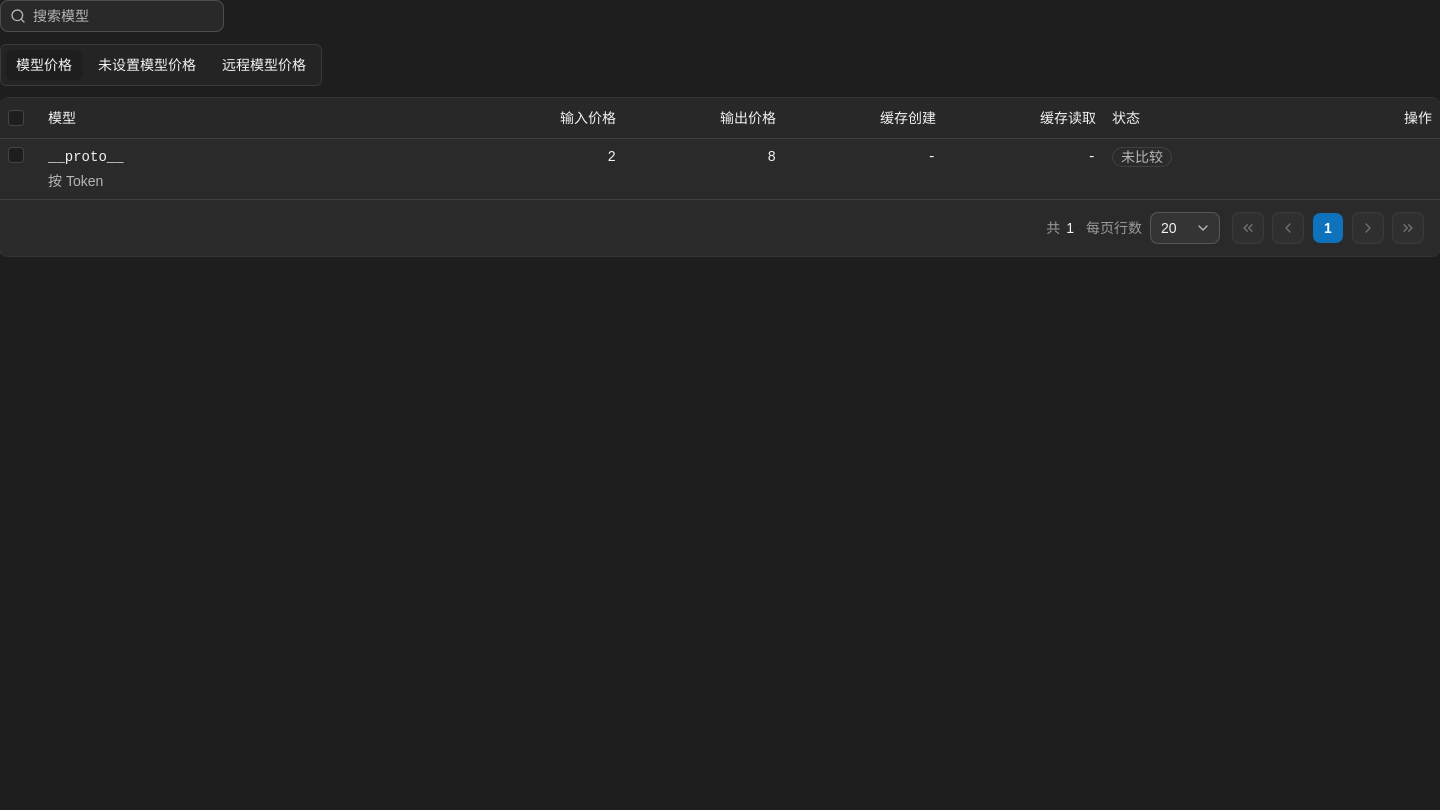
Test: 批量同步名为__proto__的模型后正常展示该模型的读回结果
Click the checkbox named "选择本页模型": (16, 118) left=8, top=110, right=24, bottom=126
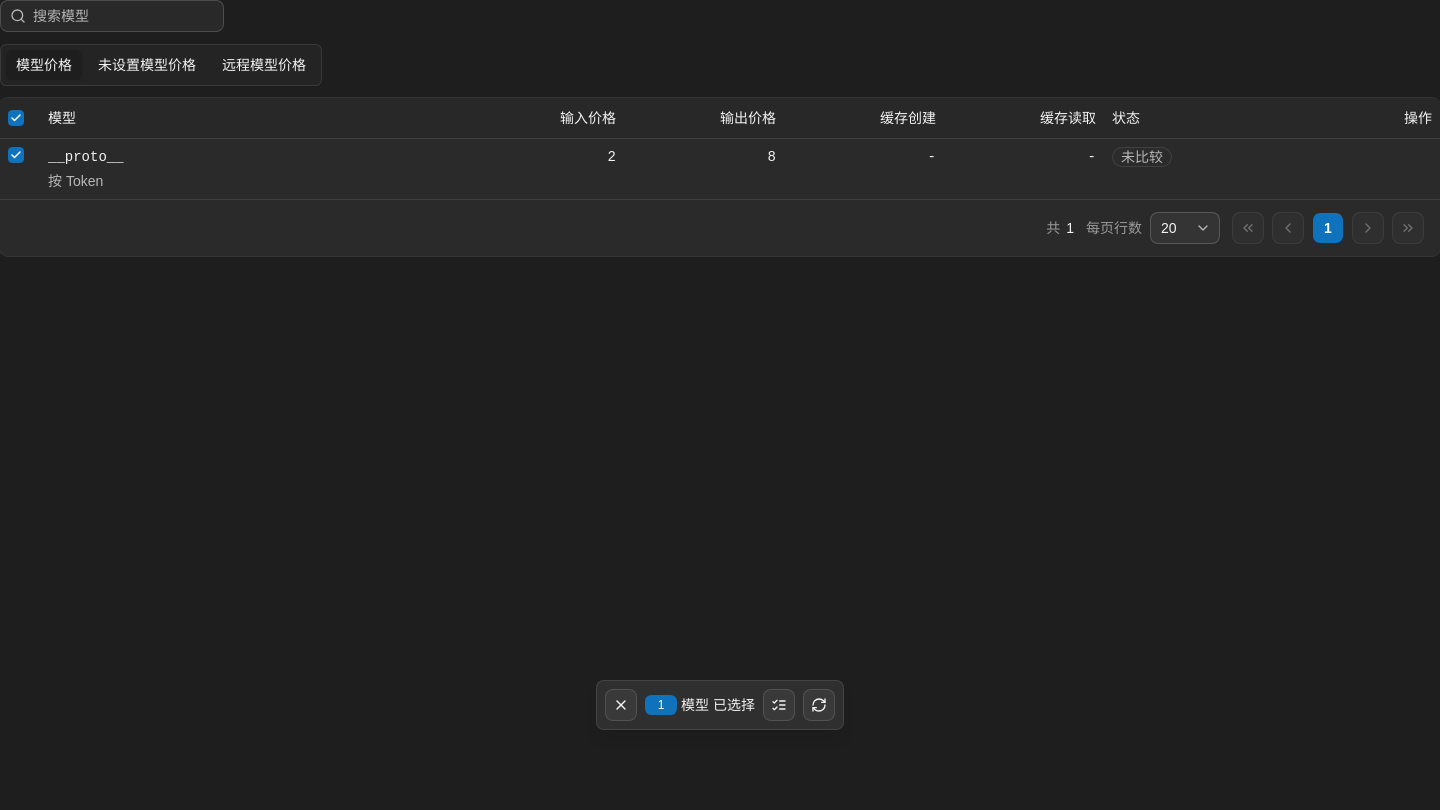
Click the button named "批量同步（1）": (819, 705) left=803, top=689, right=835, bottom=721
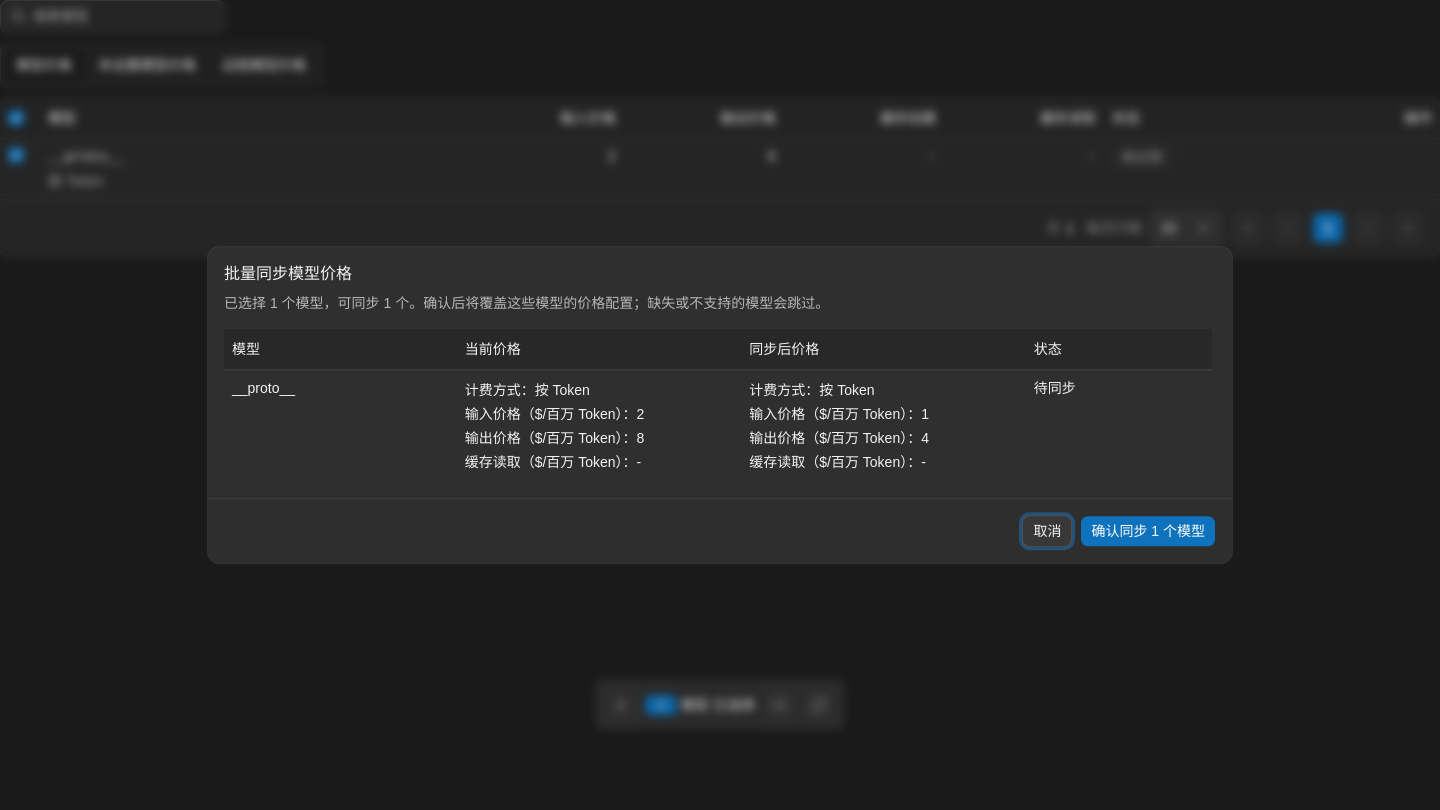
Click the button "确认同步 1 个模型": (1148, 531) left=1080, top=515, right=1216, bottom=547
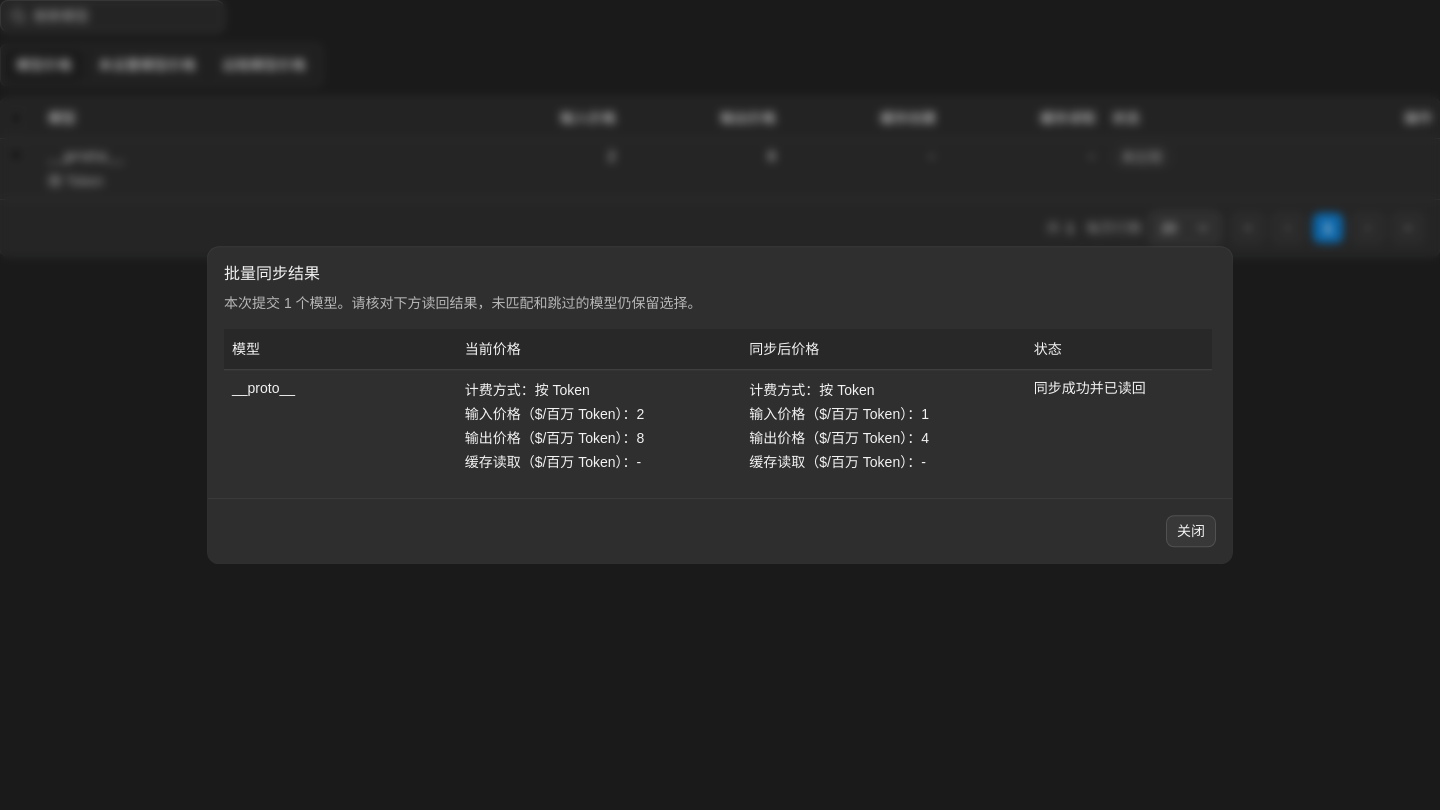
Check: the text "同步成功并已读回" is shown, box left=1026, top=369, right=1212, bottom=482
